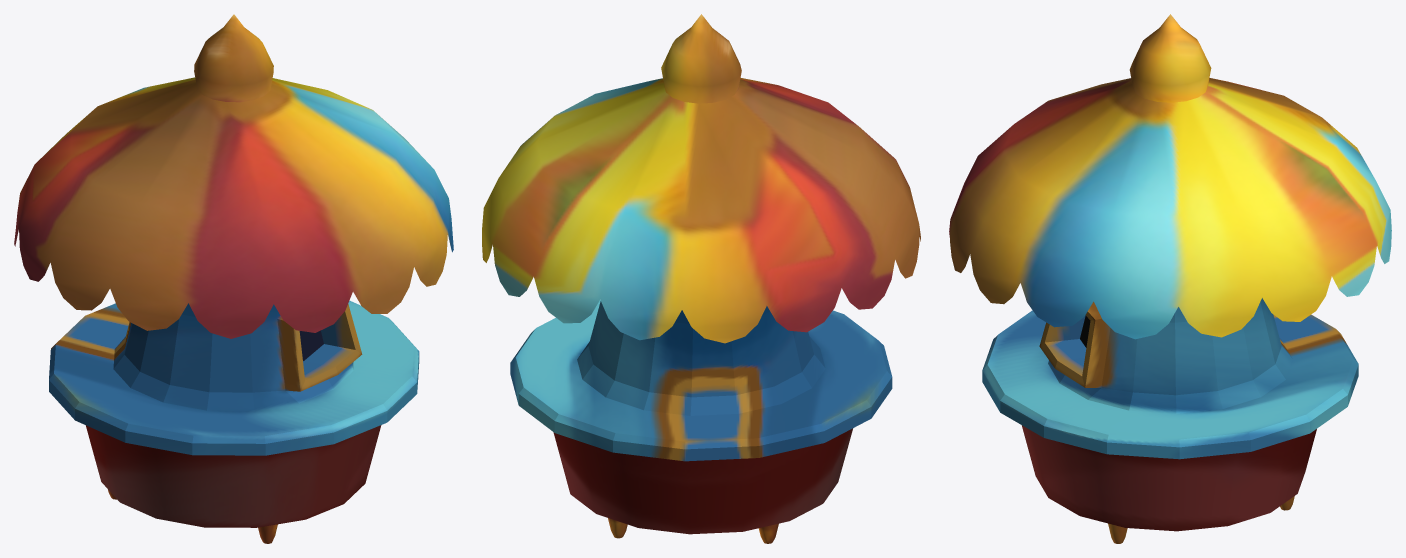
Rendered from stage_carnival_5.fbx.
3 renders of one model, left to right at view 1: azimuth 30°, elevation 25°; view 2: azimuth 150°, elevation 25°; view 3: azimuth 270°, elevation 25°, orthographic.
Visible parts, largest first — view 1: 3, 2, 1; view 2: 3, 2, 1; view 3: 3, 2, 1.
Part boxes in pixels (bbox=[...]): 3: bbox=[14, 14, 453, 338]; 2: bbox=[49, 300, 419, 455]; 1: bbox=[86, 425, 381, 543]; 3: bbox=[482, 14, 920, 343]; 2: bbox=[510, 300, 892, 461]; 1: bbox=[553, 428, 852, 543]; 3: bbox=[949, 14, 1391, 339]; 2: bbox=[982, 298, 1358, 459]; 1: bbox=[1022, 425, 1316, 543].
Size of the model in its own units: 134 by 163 by 136.
